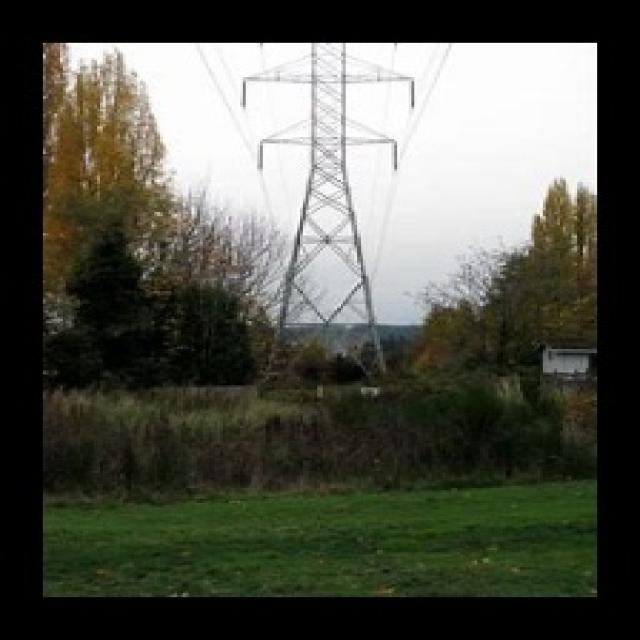utility poles: (238, 264, 320, 405), (347, 317, 462, 415)
